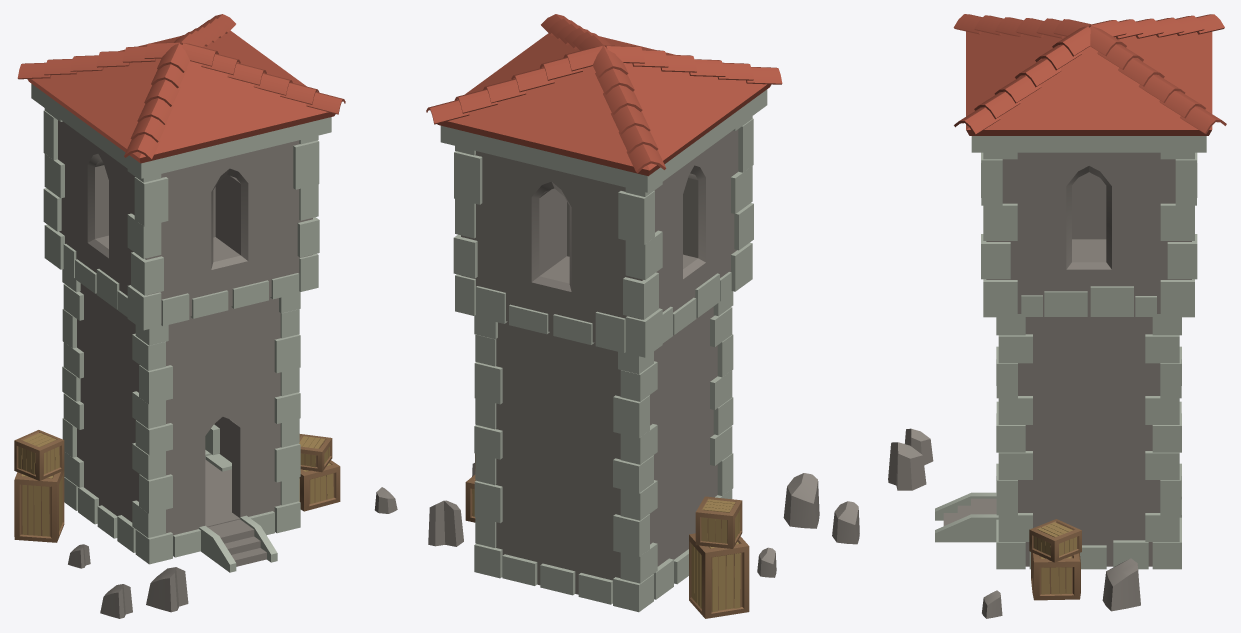
The model's file is dJLAD6p90F.glb.
3 views of the same model, side by side, from view 1: azimuth 30°, elevation 25°; view 2: azimuth 150°, elevation 25°; view 3: azimuth 270°, elevation 25° (orthographic). The views are drawn at different scales.
Visible parts, largest first — view 1: WatchTower_SecondAge_Level1; view 2: WatchTower_SecondAge_Level1; view 3: WatchTower_SecondAge_Level1.
Part boxes in pixels (x1,y1,x2,y2): WatchTower_SecondAge_Level1: (14, 14, 397, 618); WatchTower_SecondAge_Level1: (426, 14, 859, 618); WatchTower_SecondAge_Level1: (888, 14, 1226, 618).
Size of the model in its own units: 0.857 by 1.2 by 0.7227.
1 material, 1 textured.
